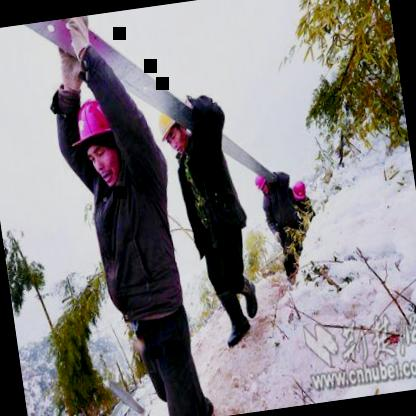helmet: (63, 92, 124, 202), (152, 106, 192, 157), (288, 176, 309, 207), (253, 168, 273, 198)
